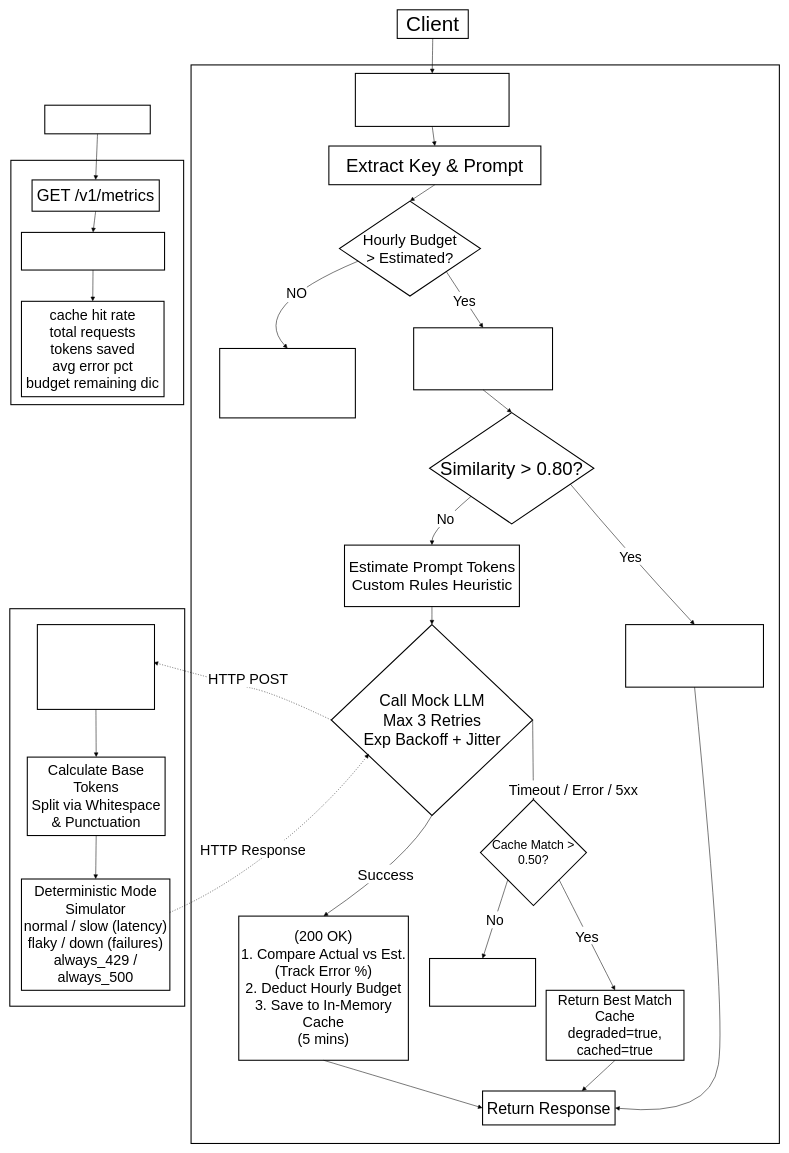
Image size: 789x1153. Some labels were removed from this diagram. Each missing label, with the centre of its shape:
ADMIN: the point at 97,119
Calculate TF-IDF Cosine Similarity: the point at 483,358
Fetch Memory Metrics: the point at 93,251
POST /v1/chat api_key, prompt: the point at 432,100
POST /v1/completions prompt, max_tokens: the point at 96,667
Return Cache cached=true: the point at 694,655
Return HTTP 429 Budget Exhausted: the point at 287,383
Return HTTP 503: the point at 482,982
